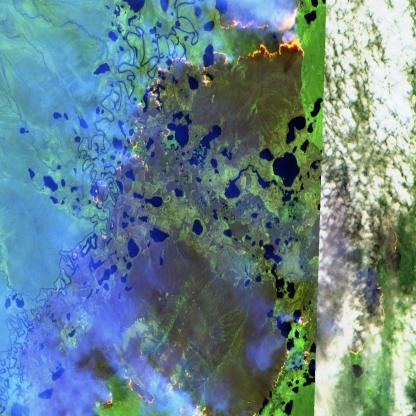fire: (88, 0, 306, 209), (95, 305, 314, 416)
